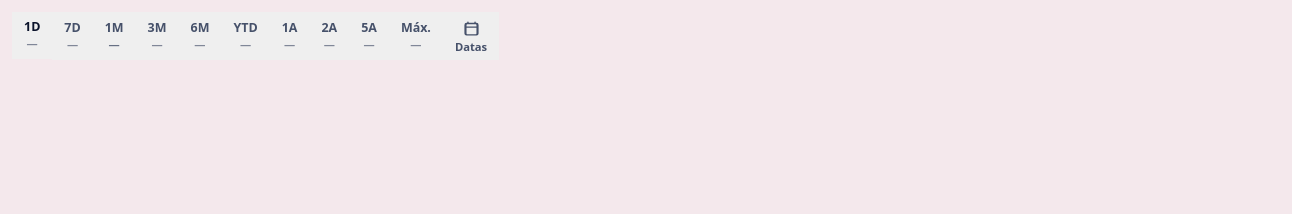
Test: ChartPeriodSelector › blocks an incomplete custom period
The width and height of the screenshot is (1292, 214).
Click the button with aria-label "Datas — selecionar período personalizado": click(471, 36) [443,12,499,60]
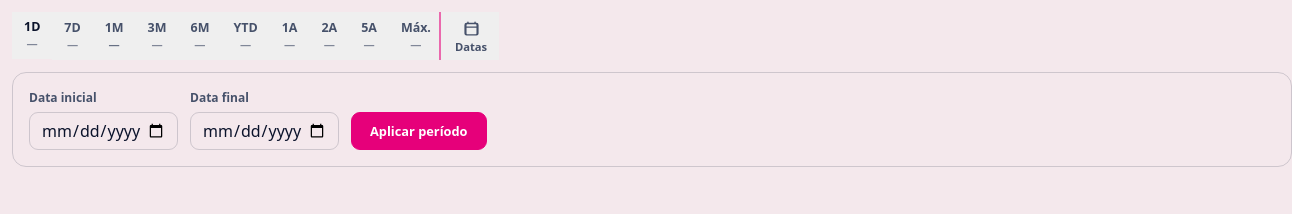
Click the button "Aplicar período": click(419, 131) [351,112,486,150]
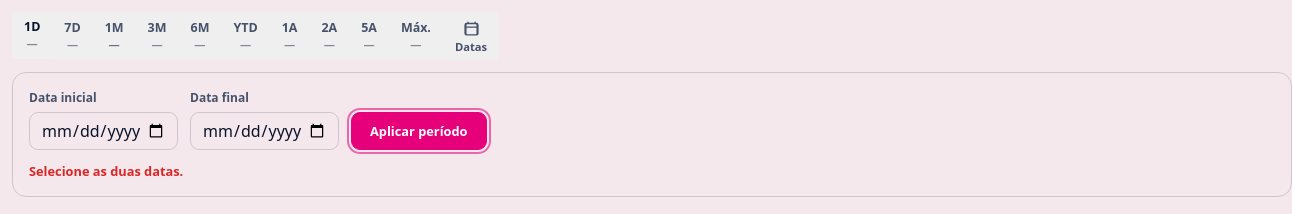
Now the text "Selecione as duas datas." is shown, box [29,162,183,180]
